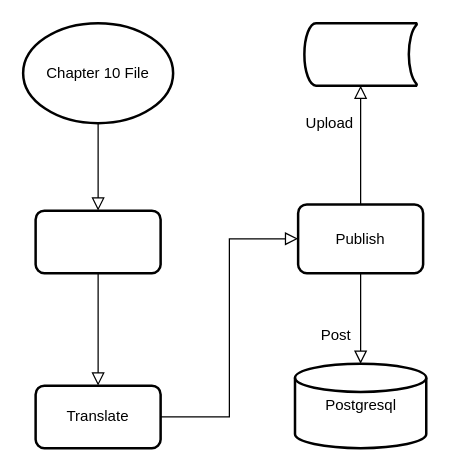
The diagram is 449 pixels wide and 470 high, and some of its shapes have lost their labels. The shapes that lost their labels are listed below. From the top down, each one's centre as x and y in pixels, then its label:
At [360,53]: "Minio".
At [97,241]: "Parse".
